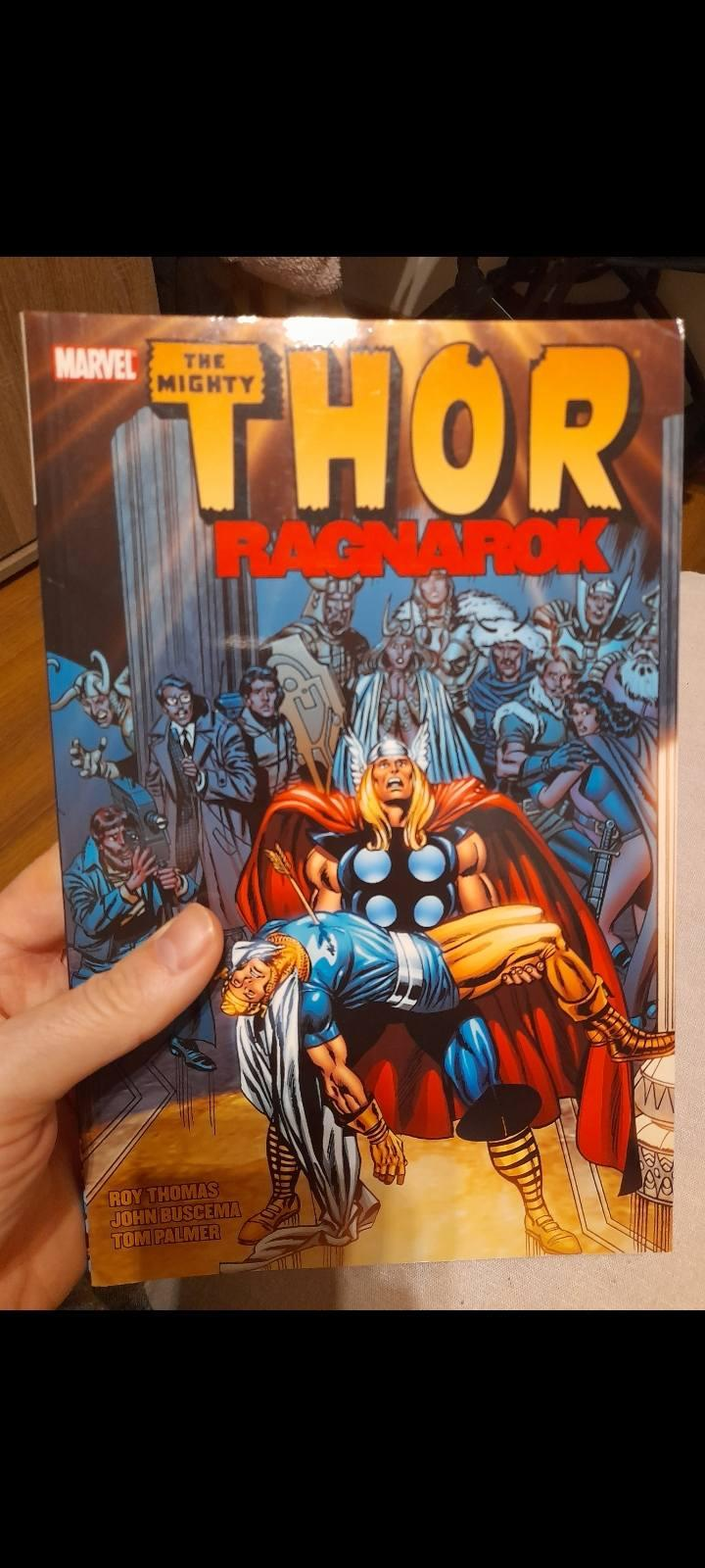comic: (24, 314, 682, 1283)
